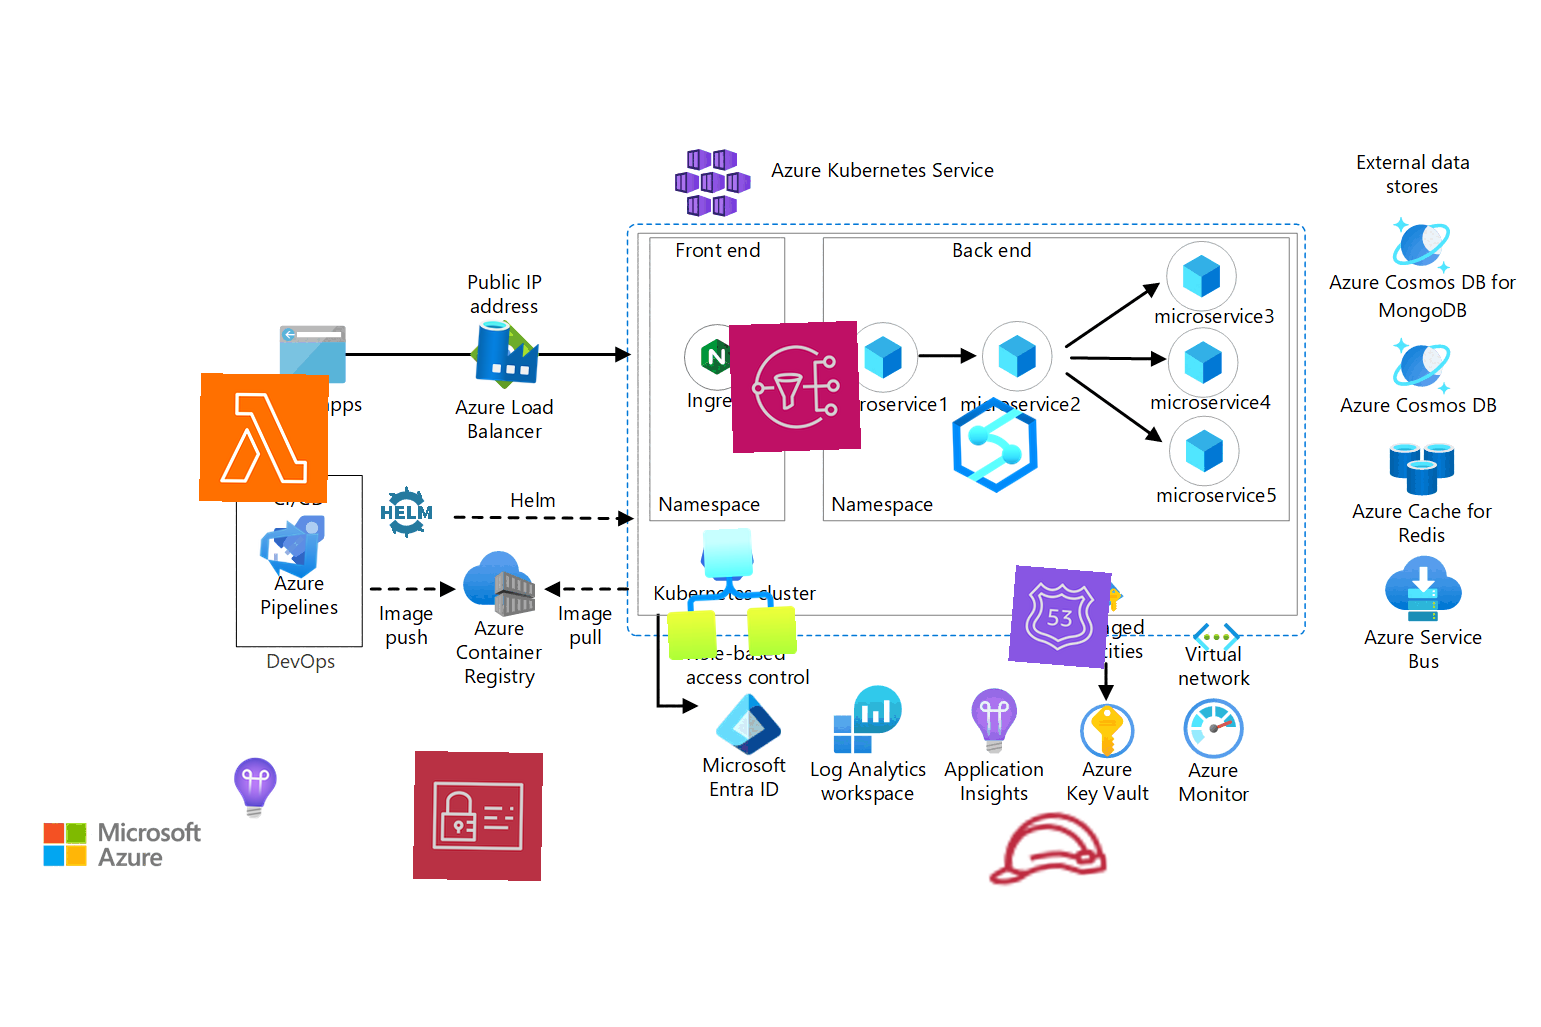aws_amazon_route_53: (1008, 565, 1112, 669)
aws_amazon_simple_notification_service: (728, 320, 862, 454)
aws_identity_access_management_role: (977, 779, 1115, 917)
aws_identity_and_access_management: (412, 750, 544, 881)
aws_lambda: (199, 373, 329, 503)
azure_application_insights: (221, 754, 289, 822)
azure_data_factories: (473, 316, 543, 386)
azure_devops: (254, 513, 324, 585)
azure_logic_apps: (662, 525, 799, 661)
azure_synapse_analytics: (945, 395, 1045, 495)
